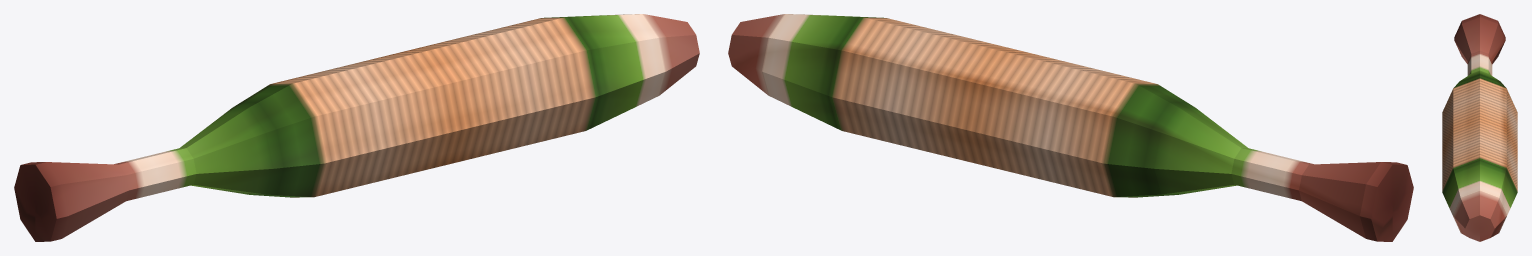
Rendered from DrumSet_Guiro.obj.
3 renders of one model, left to right at view 1: azimuth 30°, elevation 25°; view 2: azimuth 150°, elevation 25°; view 3: azimuth 270°, elevation 25°, orthographic. The views are drawn at different scales.
Parts seen in each view (by area): view 1: Circle; view 2: Circle; view 3: Circle.
Boxes of the visible parts, x1,y1,x2,y2 form: Circle: (14,14,699,241); Circle: (728,14,1413,241); Circle: (1442,14,1517,241).
Size of the model in its own units: 19.48 by 3.25 by 3.25.
1 material, 1 textured.
